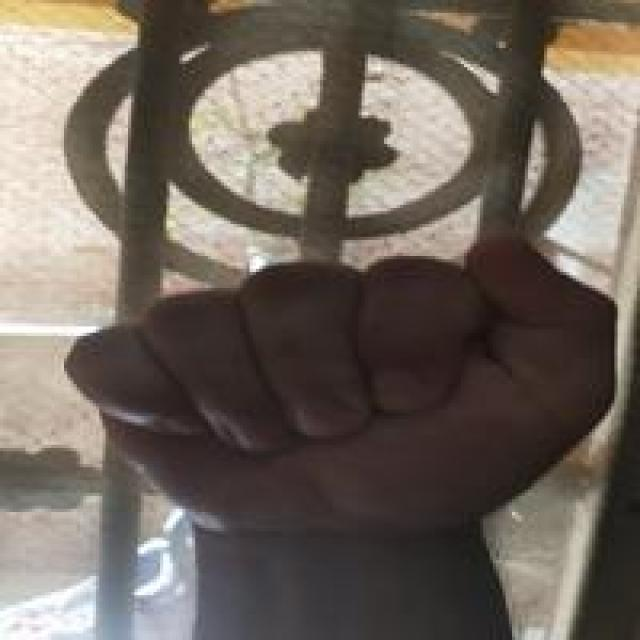A: (60, 237, 622, 541)
